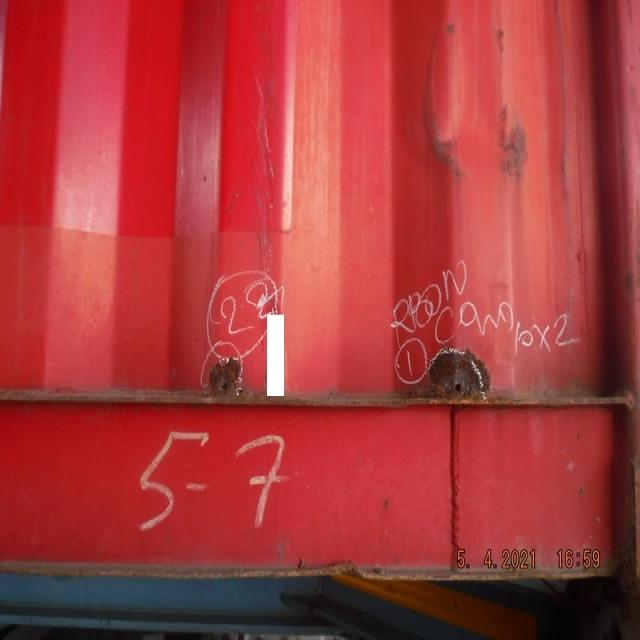hole: (428, 347, 494, 400), (208, 357, 246, 398)
